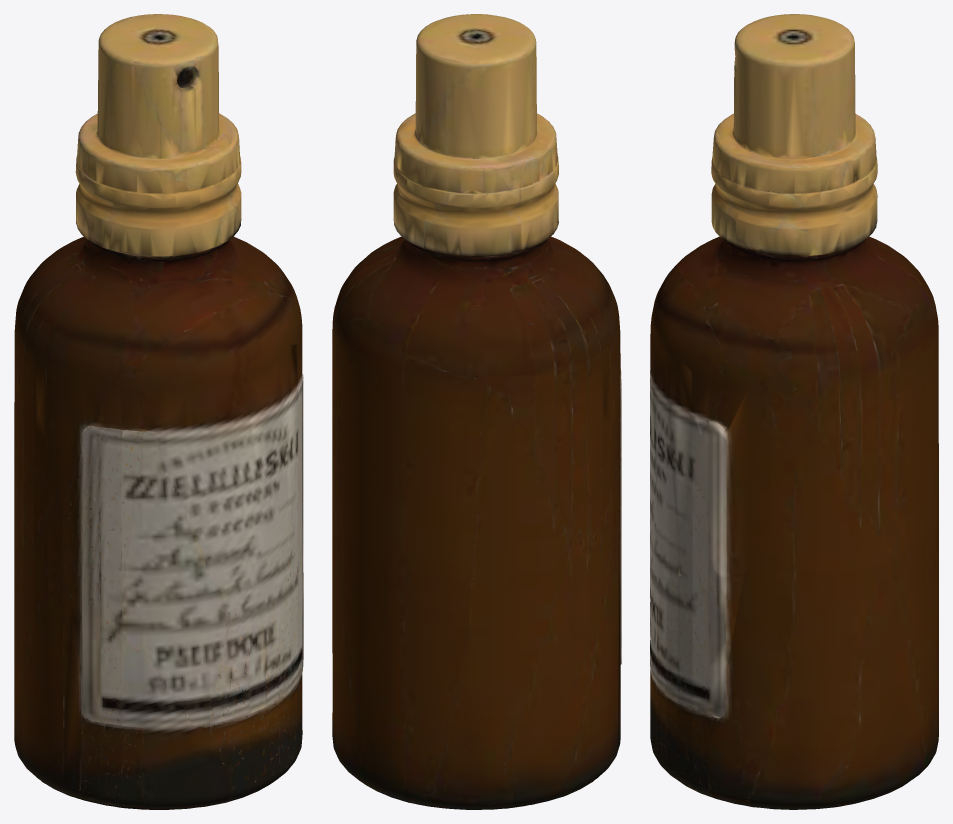
The model's file is zielinski-rozen-bergamot-green-tea-sandalwood.glb.
3 renders of one model, left to right at view 1: azimuth 30°, elevation 25°; view 2: azimuth 150°, elevation 25°; view 3: azimuth 270°, elevation 25°, orthographic.
Parts seen in each view (by area): view 1: material; view 2: material; view 3: material.
Boxes of the visible parts, left/top/right/bottom form: material: left=14, top=14, right=303, bottom=809; material: left=332, top=14, right=621, bottom=809; material: left=650, top=14, right=938, bottom=809.
Size of the model in its own units: 0.4156 by 1.14 by 0.4166.
1 material, 1 textured.
